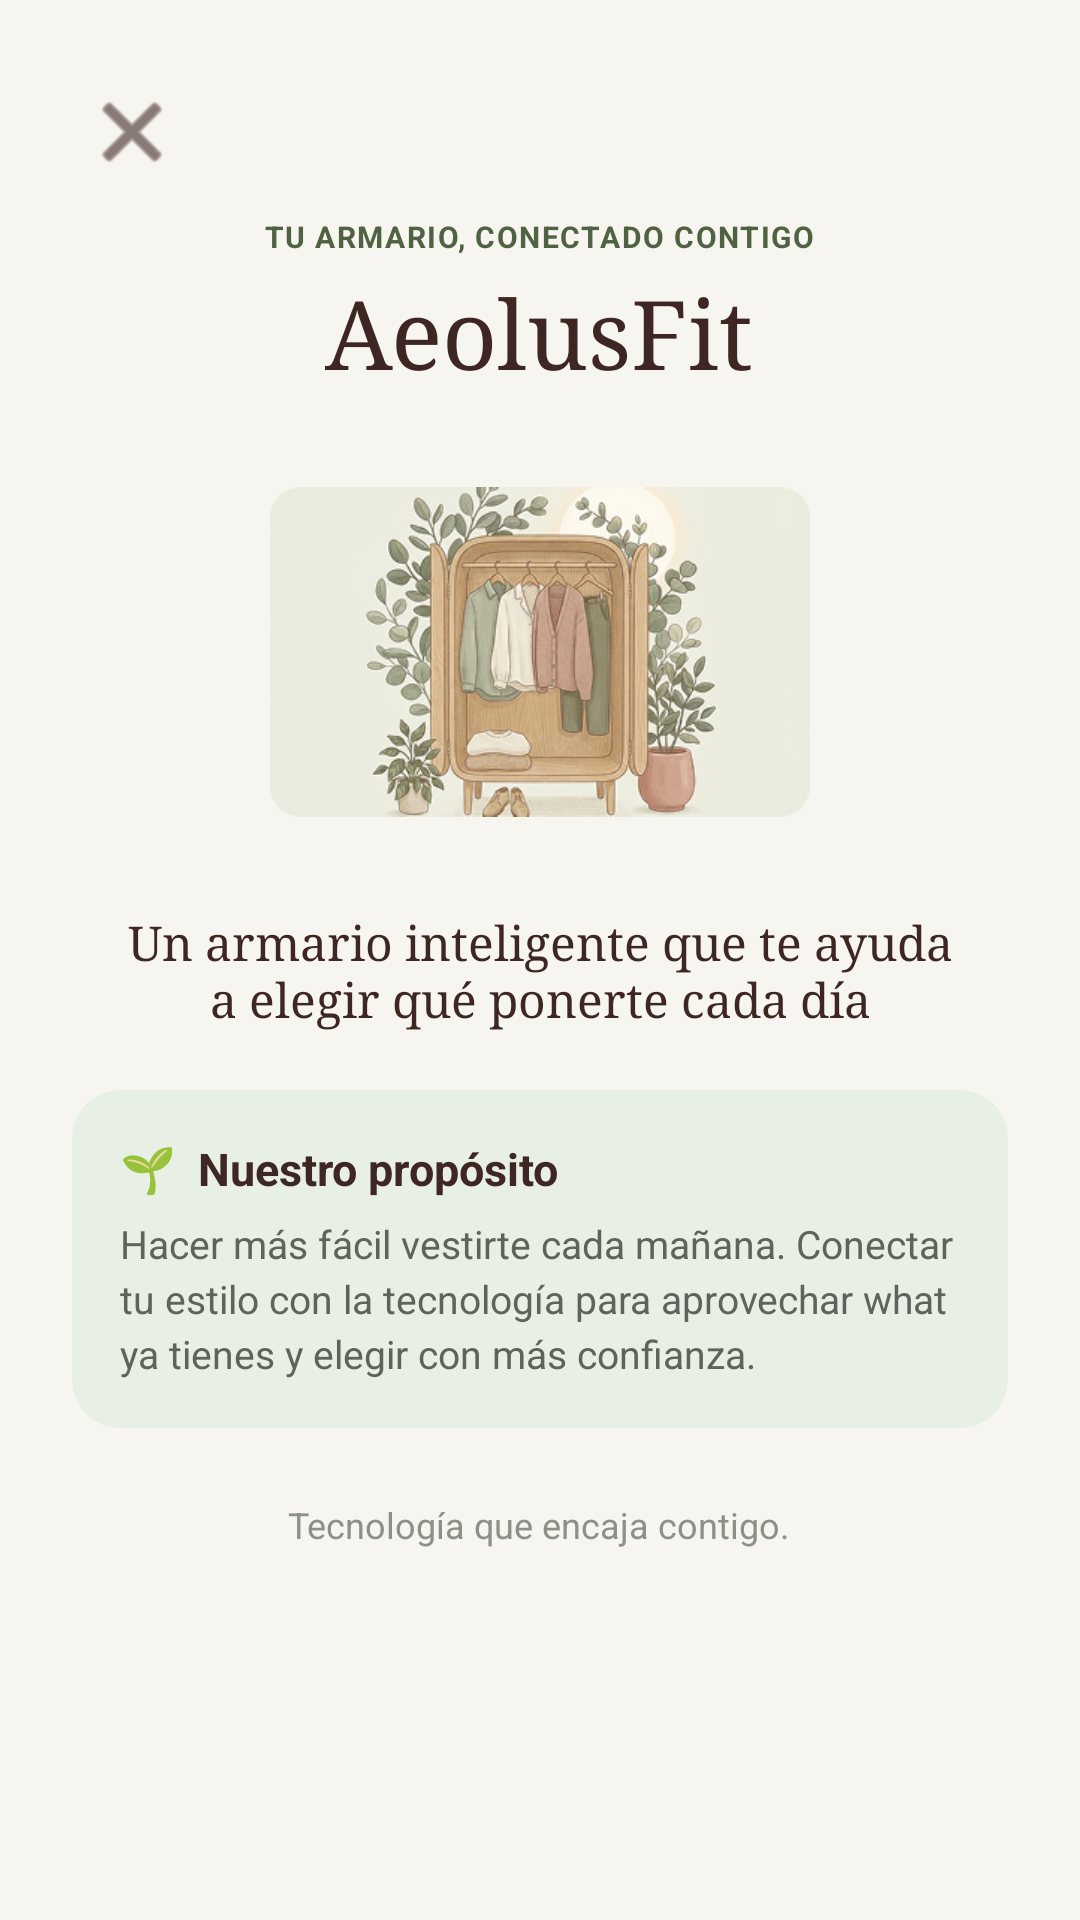

Where to tap for icons on this 1080 × 1920 app screen, as (x=x, y=y):
Cerrar: (x=132, y=132)
